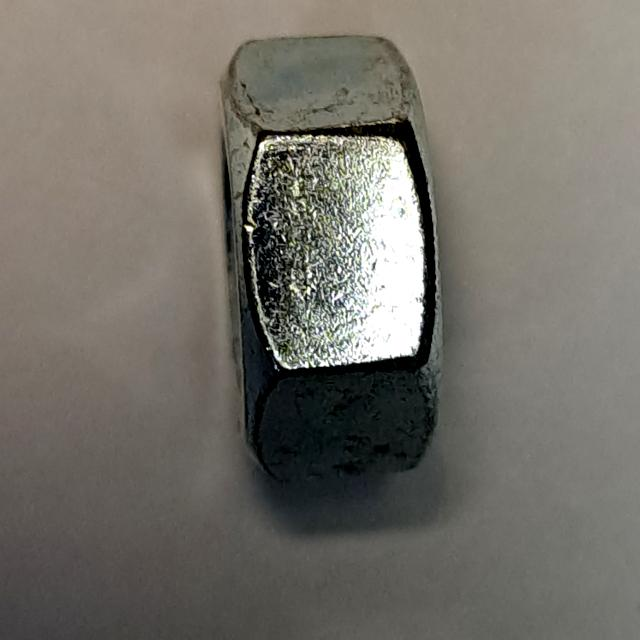Side_Excellent: (196, 19, 457, 505)
